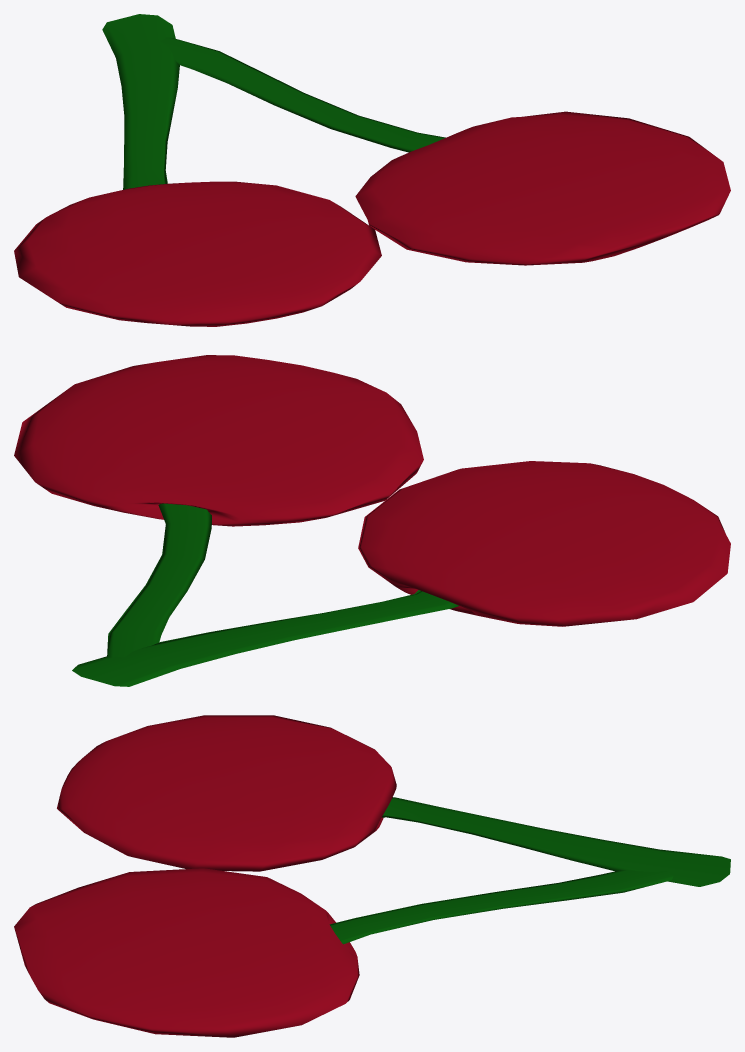
The model's file is CherryBent.fbx.
3 renders of one model, top to bottom at view 1: azimuth 30°, elevation 25°; view 2: azimuth 150°, elevation 25°; view 3: azimuth 270°, elevation 25°, orthographic. The views are drawn at different scales.
Visible parts, largest first — view 1: Cherry; view 2: Cherry; view 3: Cherry.
Part boxes in pixels (<box>): Cherry: <box>14,14,730,326</box>; Cherry: <box>14,355,730,686</box>; Cherry: <box>14,715,730,1037</box>.
Bounding box in the file's own units: 2902 × 150 × 2759.
